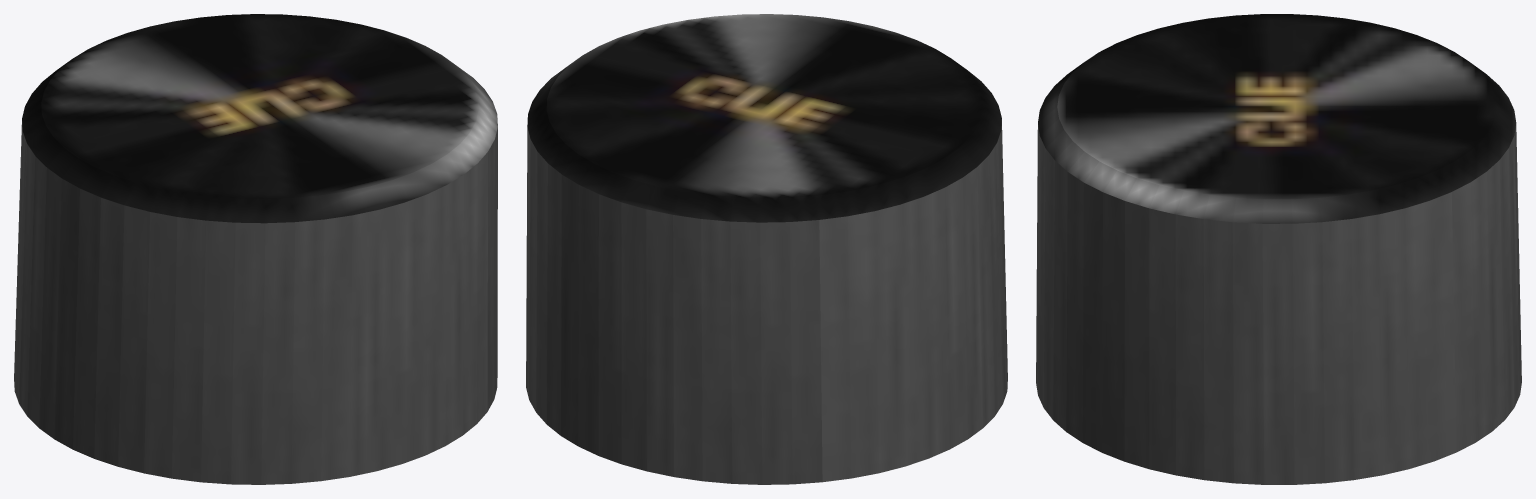
Rendered from cue.glb.
The picture shows the model from 3 angles, left to right: view 1: azimuth 30°, elevation 25°; view 2: azimuth 150°, elevation 25°; view 3: azimuth 270°, elevation 25°; orthographic projection.
Parts seen in each view (by area): view 1: Cylinder.855; view 2: Cylinder.855; view 3: Cylinder.855.
Boxes of the visible parts, <box> form: Cylinder.855: <box>14,14,497,484</box>; Cylinder.855: <box>526,14,1007,484</box>; Cylinder.855: <box>1036,14,1521,484</box>.
Bounding box in the file's own units: 0.0638 × 0.0403 × 0.064.
1 material, 1 textured.
